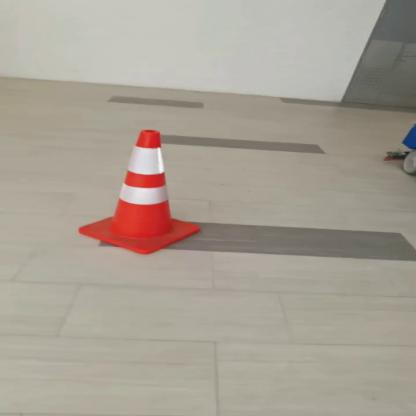cone: (73, 112, 210, 257)
